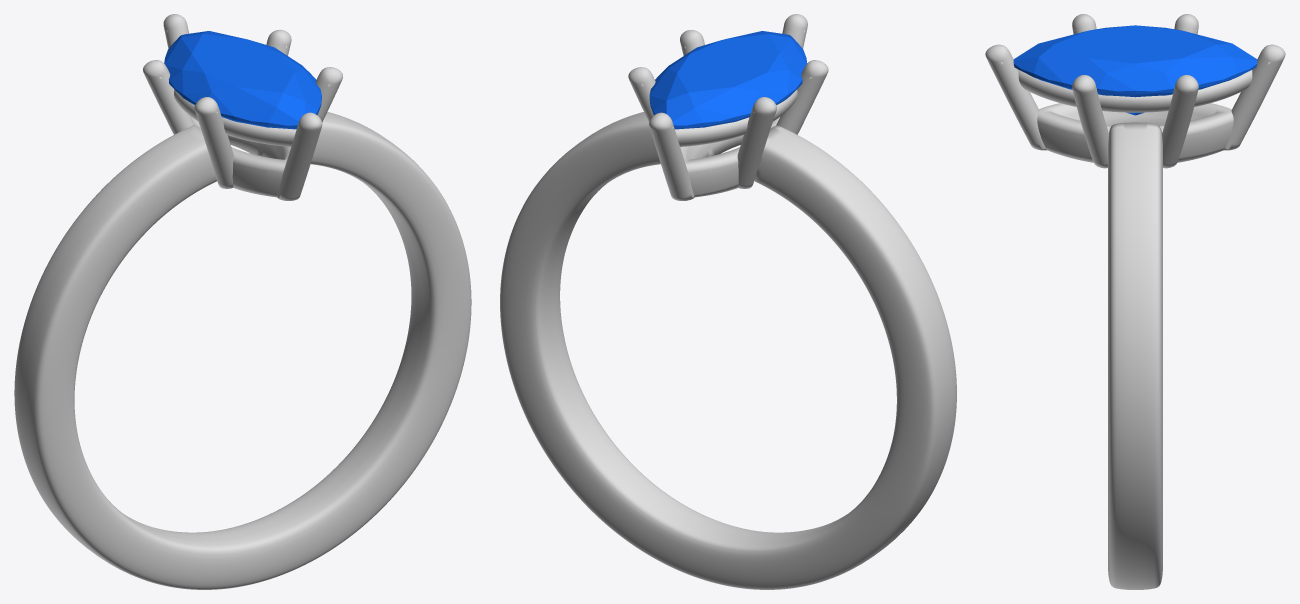
Rendered from bluesapphire-marquise-platinum-6prong-straightband-nosidestones.glb.
The picture shows the model from 3 angles, left to right: view 1: azimuth 30°, elevation 25°; view 2: azimuth 150°, elevation 25°; view 3: azimuth 270°, elevation 25°; orthographic projection.
Visible parts, largest first — view 1: metal.001, stone; view 2: metal.001, stone; view 3: metal.001, stone.
Boxes of the visible parts, x1,y1,x2,y2 form: metal.001: (14, 14, 471, 589); stone: (164, 31, 321, 129); metal.001: (500, 14, 956, 589); stone: (649, 31, 807, 129); metal.001: (985, 14, 1285, 589); stone: (1013, 25, 1257, 115).
Bounding box in the file's own units: 20.5 × 22.94 × 11.96.
